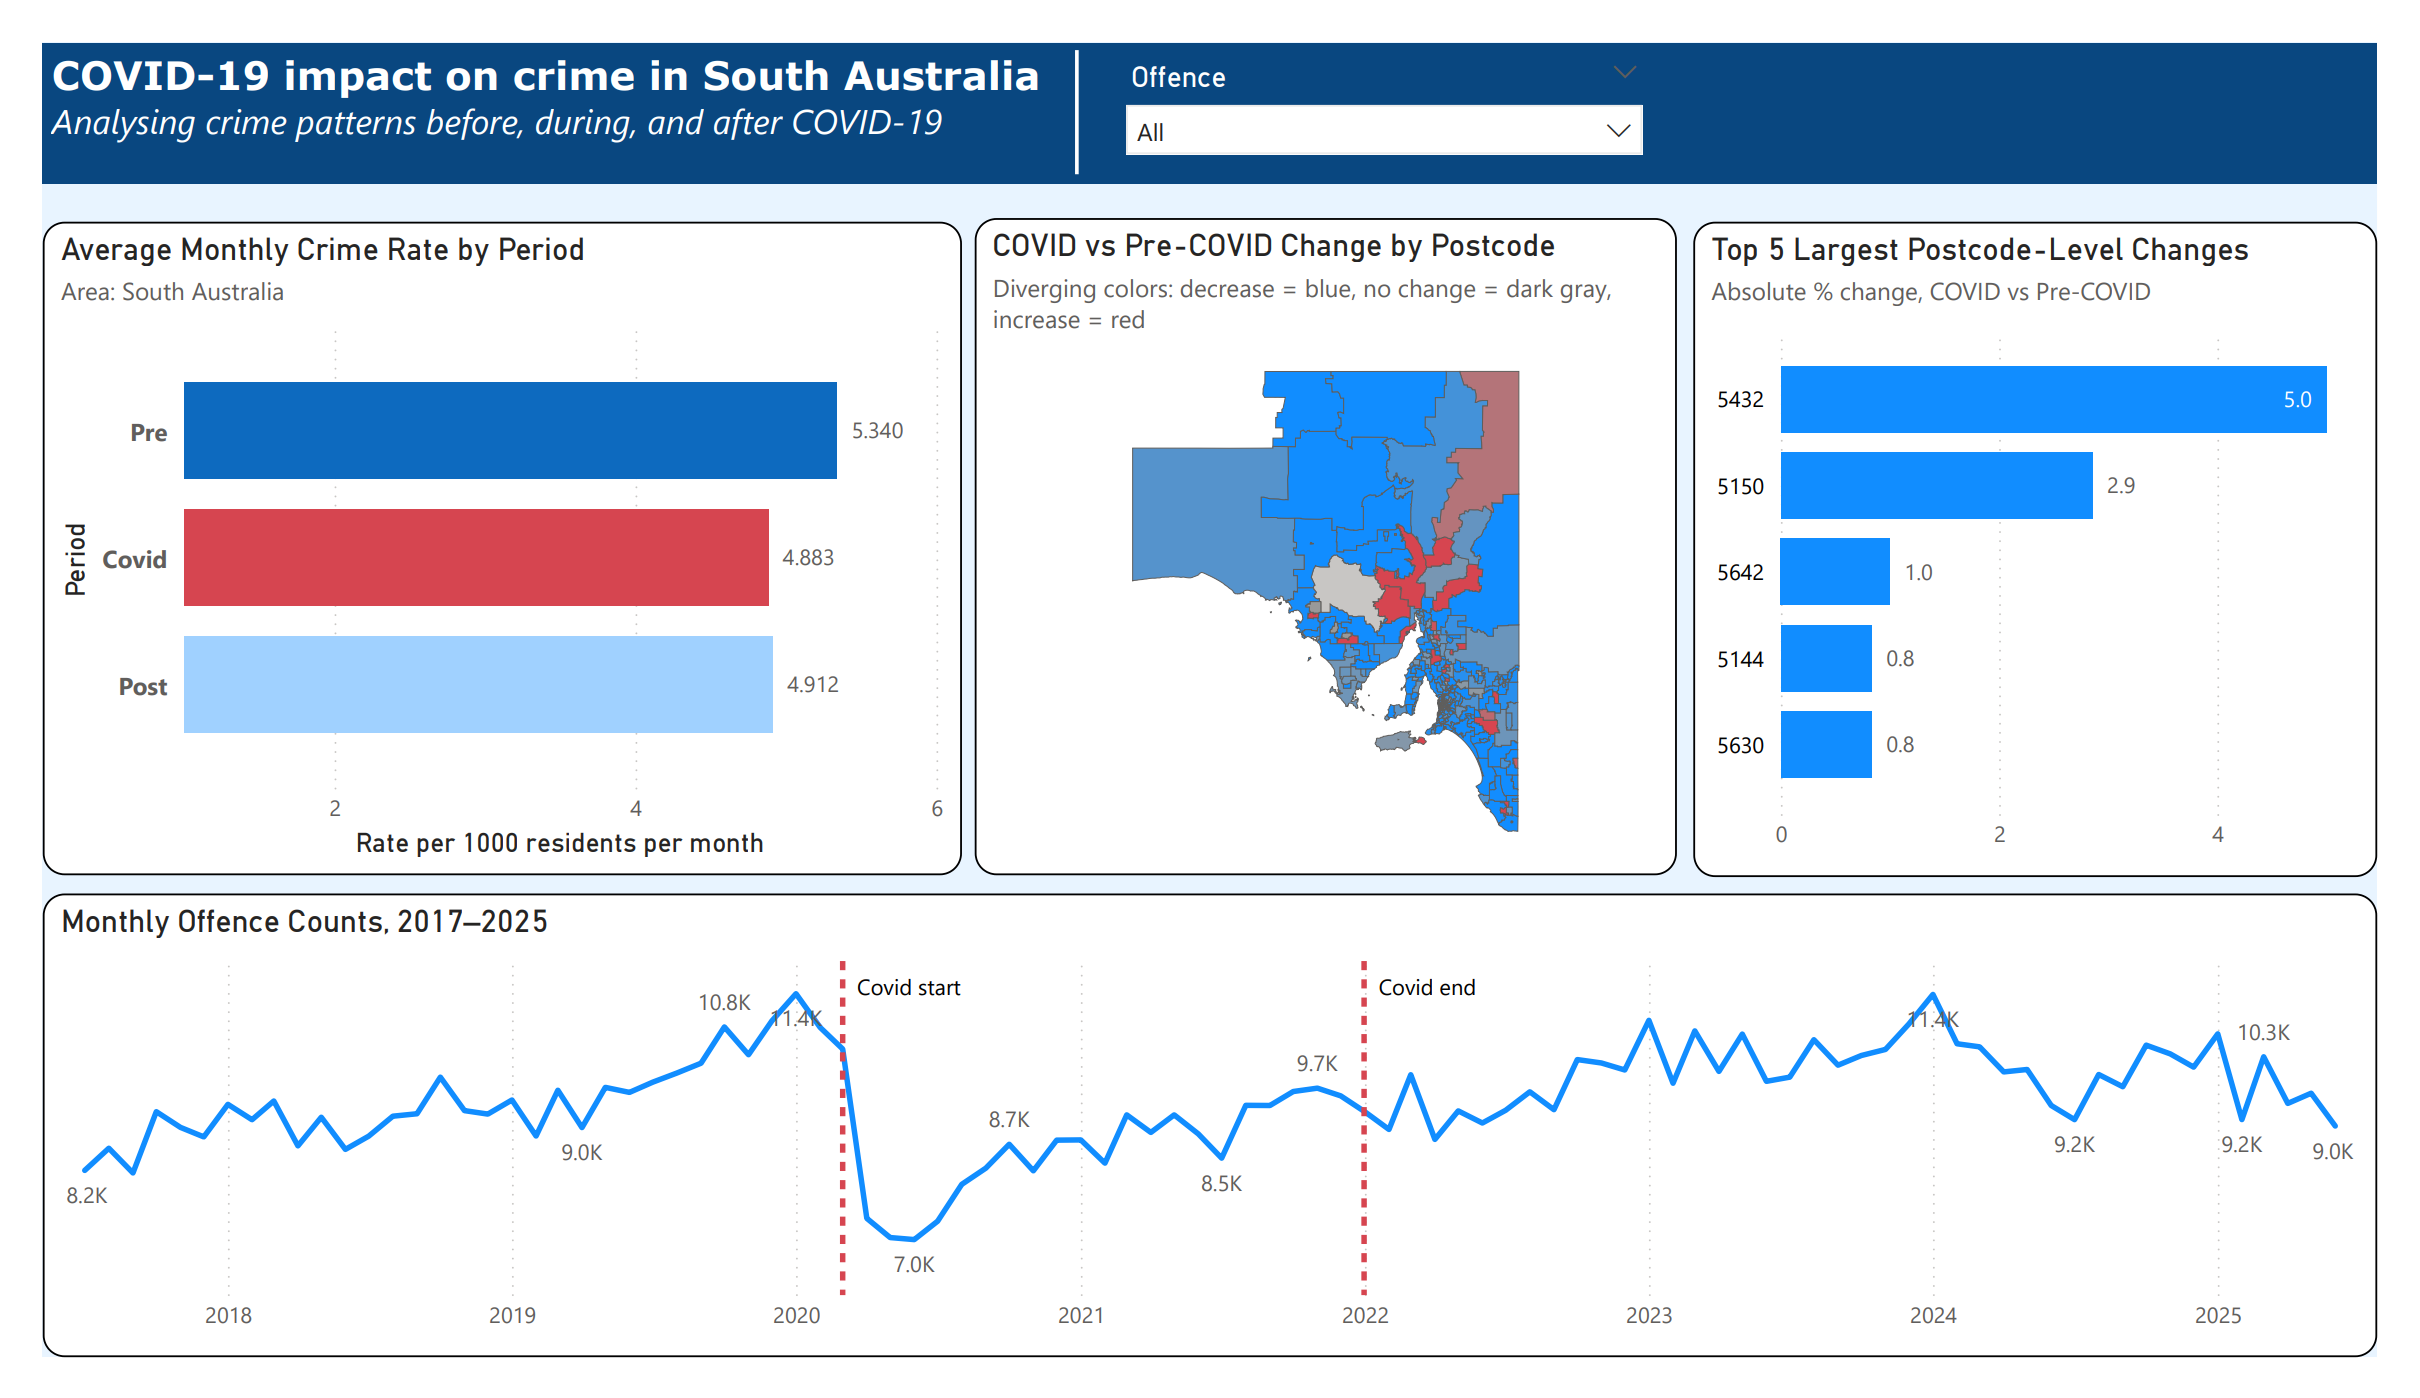

This screenshot's page, from the dashboard's own definition file:
{"tool":"powerbi","page":{"name":"Page 2","canvas":[1280,720],"ordinal":1},"visuals":[{"type":"textbox","box":[0,0,1280.2,76.5],"z":0,"group":"g1"},{"type":"shapeMap","title":"COVID vs Pre-COVID Change by Postcode","fields":{"Category":["crime data 2016-2025.Postcode - Incident"],"Value":["crime data 2016-2025.Δ% covid vs pre (raw)"]},"box":[511.1,96.3,385.2,359.3],"z":0},{"type":"slicer","fields":{"Values":["crime data 2016-2025.Offence Level 1 Description"]},"box":[584.1,4.1,302.5,76.8],"z":1000,"group":"g1"},{"type":"lineChart","title":"Monthly Offence Counts, 2017–2025","fields":{"Y":["Sum(crime data 2016-2025.Offence count)"],"Category":["DimDate.Date.Variation.Date Hierarchy.Year","DimDate.Date.Variation.Date Hierarchy.Month"]},"box":[0,466,1280,253.9],"z":1000},{"type":"clusteredBarChart","title":"Average Monthly Crime Rate by Period","fields":{"Category":["Period.Period"],"Y":["crime data 2016-2025.Rate/1k per month by Period"]},"box":[0,97.9,504,358.5],"z":2000},{"type":"clusteredBarChart","title":"Top 5 Largest Postcode-Level Changes","fields":{"Y":["crime data 2016-2025.Abs Δ%"],"Category":["2021Census_G01_SA_POA.PostcodeText"]},"box":[905.3,97.7,374.7,359.6],"z":3000},{"type":"group","id":"g1","title":"Group 1","box":[0,0,1280.2,80.9],"z":4000},{"type":"shape","box":[508.5,4.1,116.4,67.5],"z":5000,"group":"g1"}]}

Visuals, with their boxes in screenshot pixels (x1, y1, x2, y2), scaled from the page's 1280x720 canvas onto the 2420x1398 screenshot:
textbox: {"left": 0, "top": 0, "right": 2419, "bottom": 149}
"COVID vs Pre-COVID Change by Postcode" shapeMap: {"left": 966, "top": 187, "right": 1695, "bottom": 885}
slicer - crime data 2016-2025.Offence Level 1 Description: {"left": 1104, "top": 8, "right": 1676, "bottom": 157}
"Monthly Offence Counts, 2017–2025" lineChart: {"left": 0, "top": 905, "right": 2419, "bottom": 1397}
"Average Monthly Crime Rate by Period" clusteredBarChart: {"left": 0, "top": 190, "right": 953, "bottom": 886}
"Top 5 Largest Postcode-Level Changes" clusteredBarChart: {"left": 1712, "top": 190, "right": 2419, "bottom": 888}
"Group 1" group: {"left": 0, "top": 0, "right": 2419, "bottom": 157}
shape: {"left": 961, "top": 8, "right": 1181, "bottom": 139}
